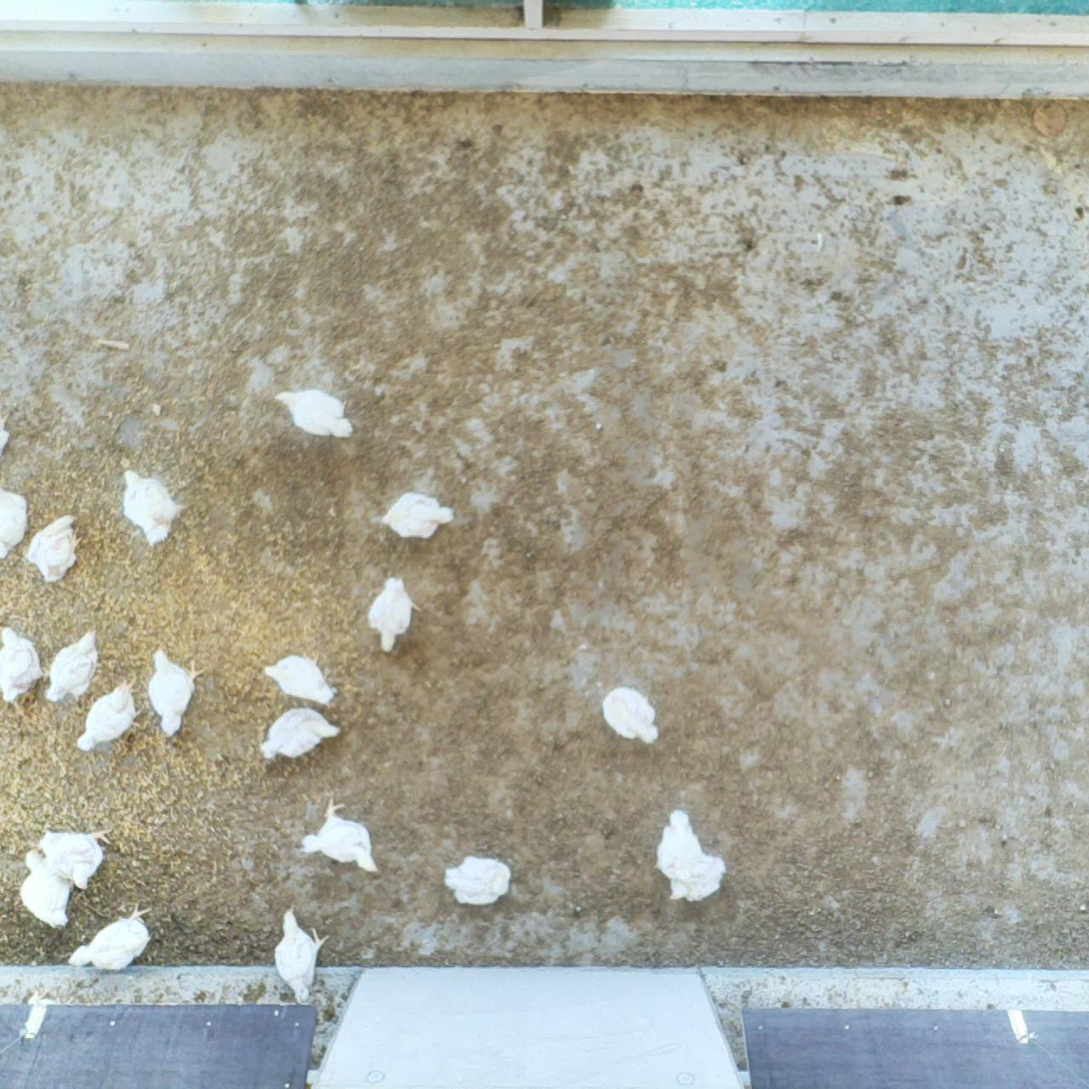chicken: (650, 803, 726, 908), (299, 790, 383, 881), (67, 900, 159, 975), (271, 900, 334, 1008), (146, 645, 213, 740), (120, 463, 186, 555), (37, 822, 118, 894), (252, 706, 345, 767), (268, 385, 357, 446), (360, 572, 422, 659), (16, 846, 79, 931), (258, 646, 340, 710), (375, 487, 462, 546), (436, 849, 515, 912), (41, 626, 100, 709), (0, 623, 49, 720), (594, 682, 662, 750), (33, 509, 83, 594), (0, 484, 30, 566)
